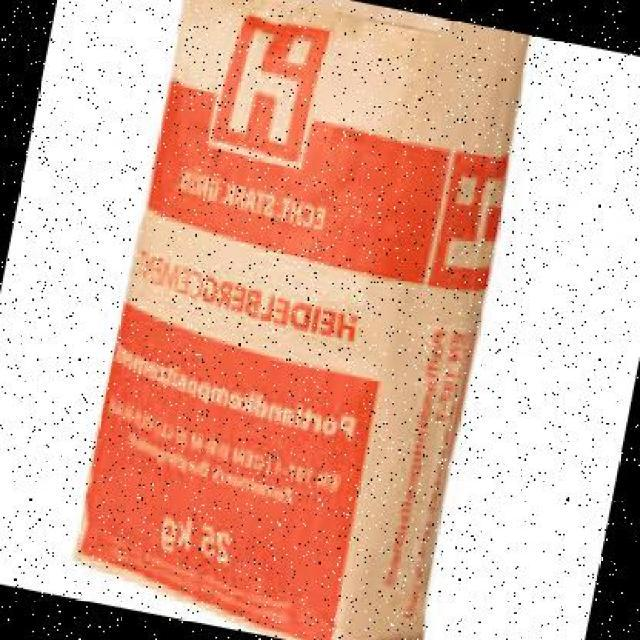gunny_bag: (77, 0, 529, 640)
